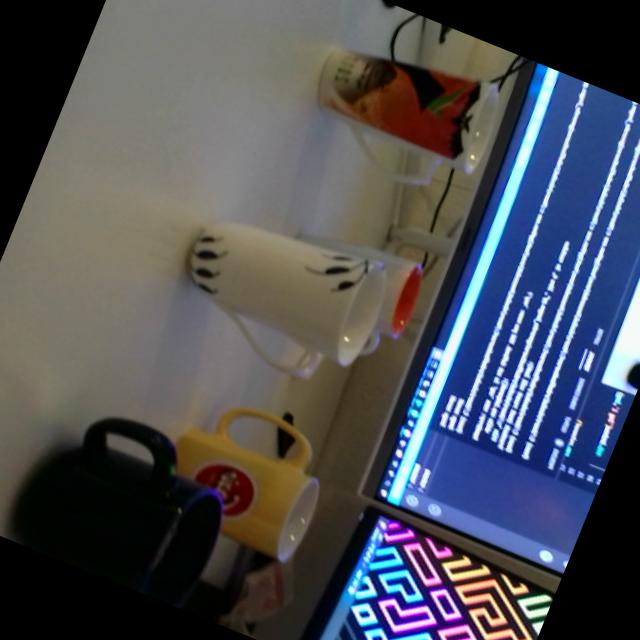Cocio Cup: (150, 383, 344, 569)
Cup: (2, 388, 250, 612)
Halloween cup: (300, 21, 510, 188)
Hand painted cup: (156, 182, 407, 403)
